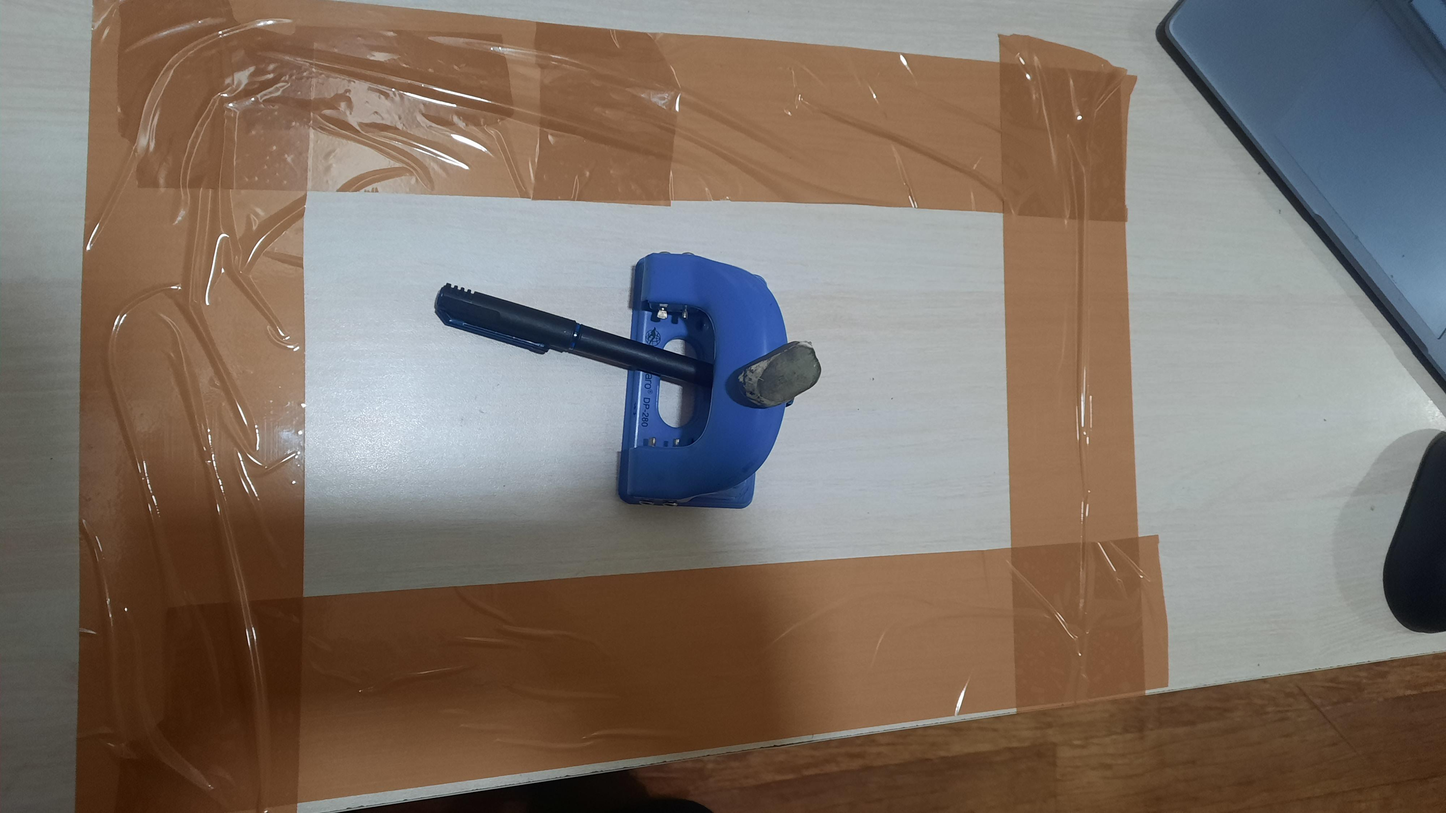Eraser: (739, 340, 822, 409)
Pen: (434, 283, 715, 389)
Punch: (617, 251, 791, 510)
